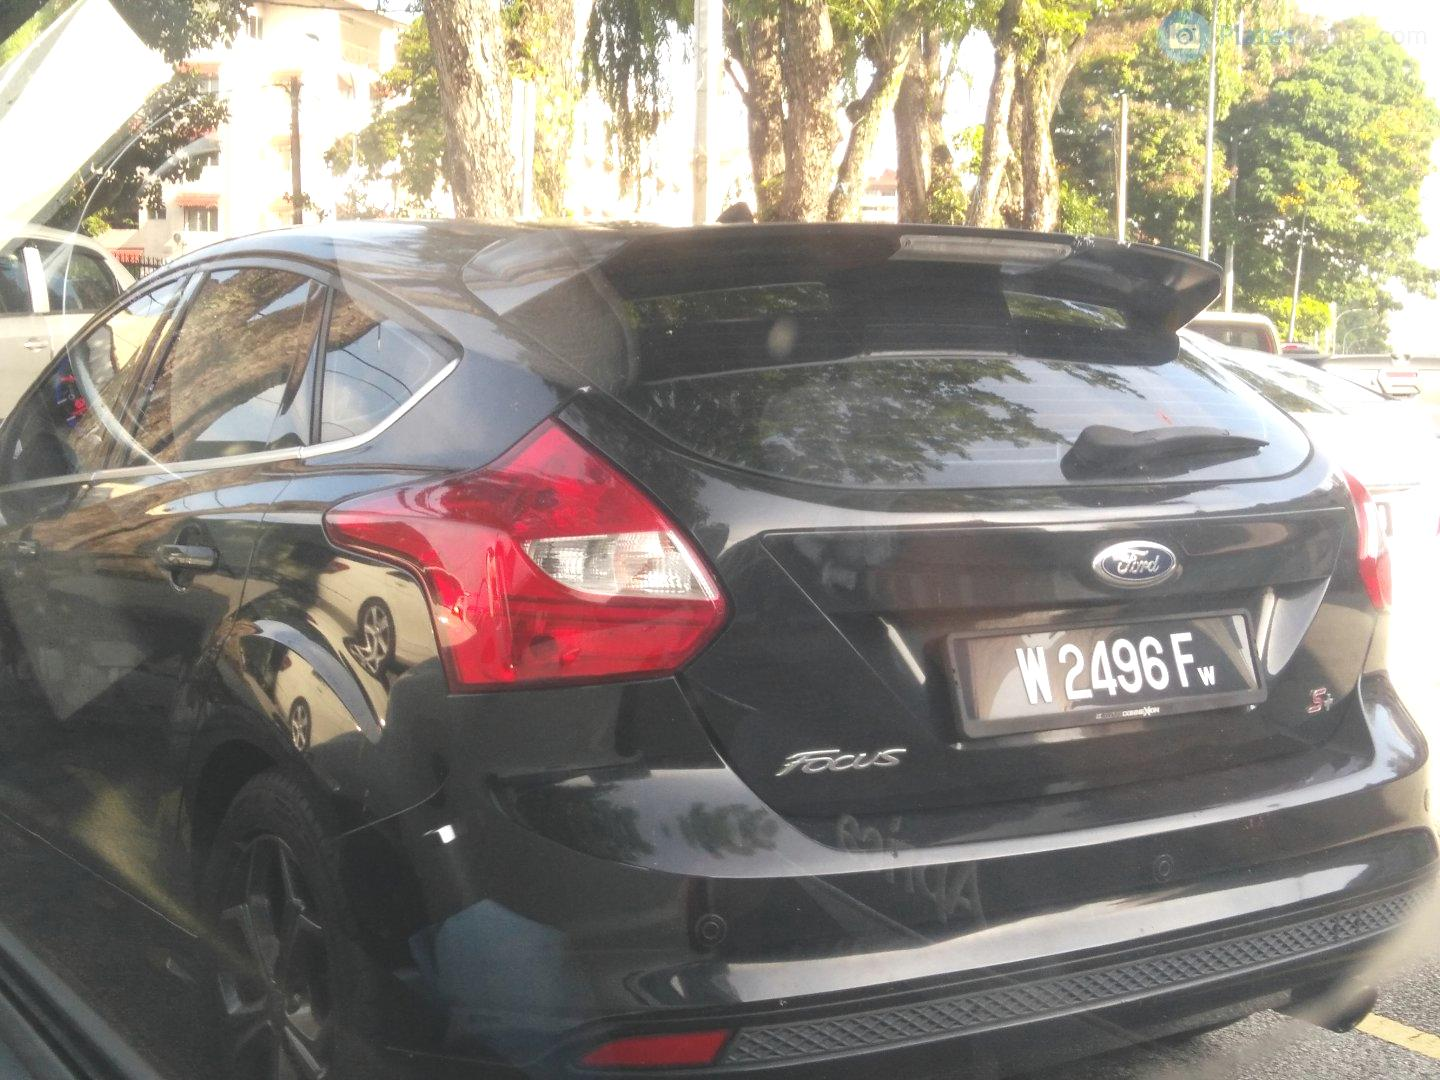License Plate: (971, 615, 1264, 720)
